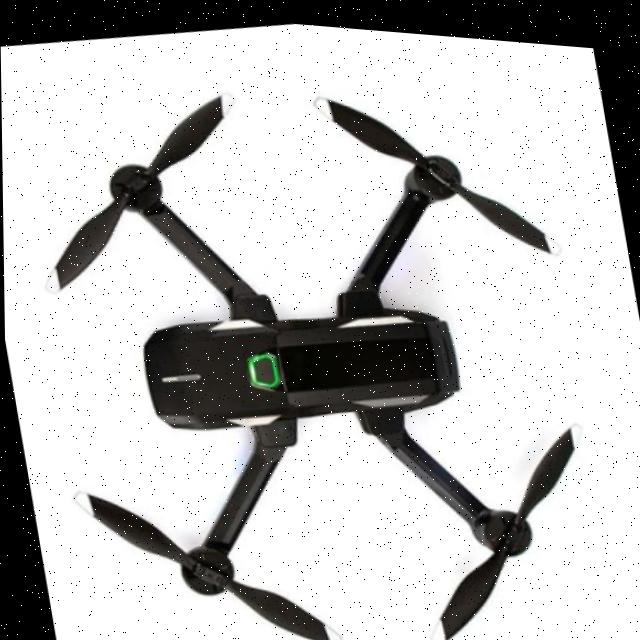drones: (0, 22, 635, 640)
